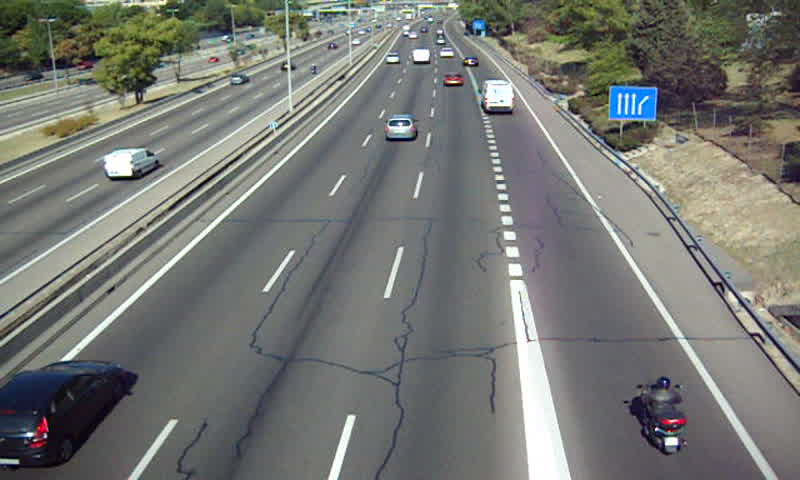car: (1, 361, 123, 467), (383, 114, 418, 142), (441, 71, 463, 88), (462, 54, 480, 68), (440, 46, 455, 59), (386, 52, 400, 65)
motorcycle: (634, 377, 686, 456)
van: (481, 79, 514, 113), (411, 48, 429, 64)
